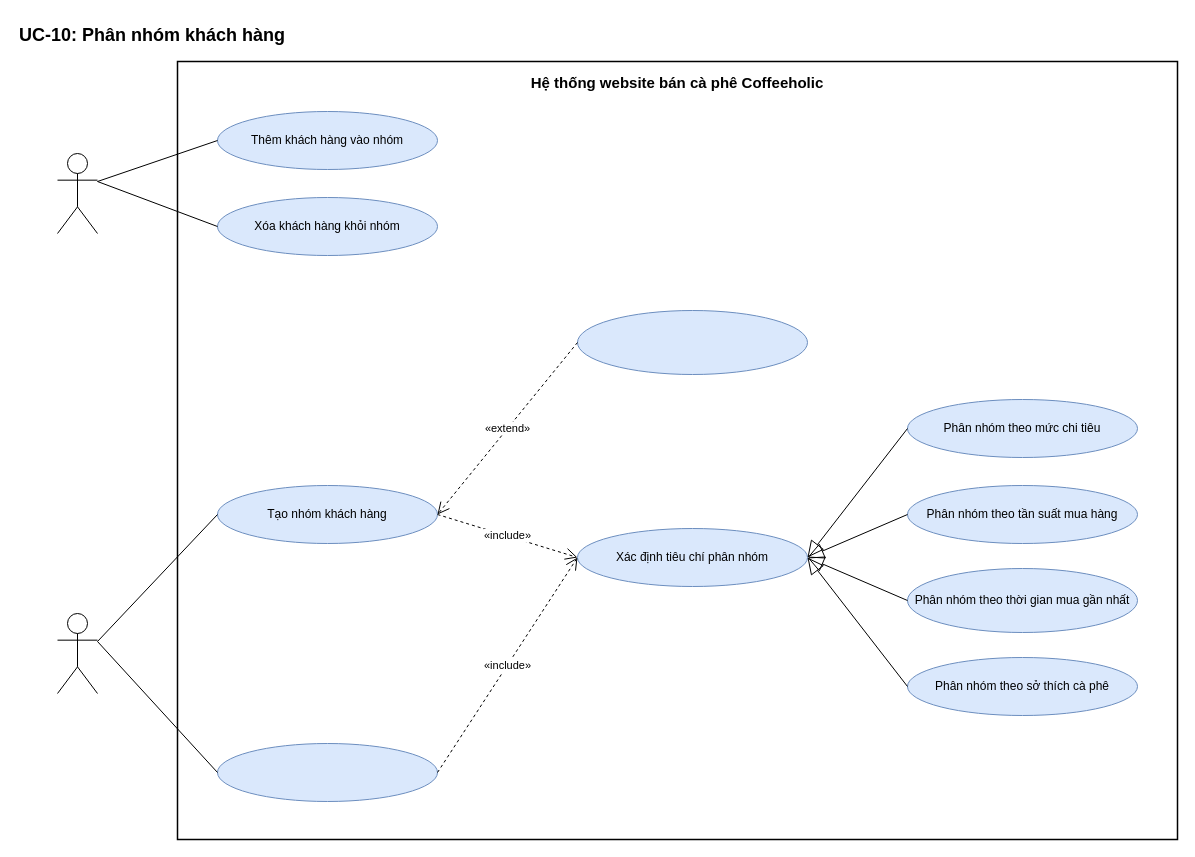
Image size: 1195x857. Some labels were removed from this diagram. The shapes that lost their labels are listed below. From the top down, each one's centre as x and y in pixels, then its label:
At point (77, 193): "Nhân viên".
At point (692, 342): "Xem trước danh sách khách hàng thuộc nhóm".
At point (77, 653): "Quản lý".
At point (327, 772): "Tính toán lại nhóm khách hàng".
